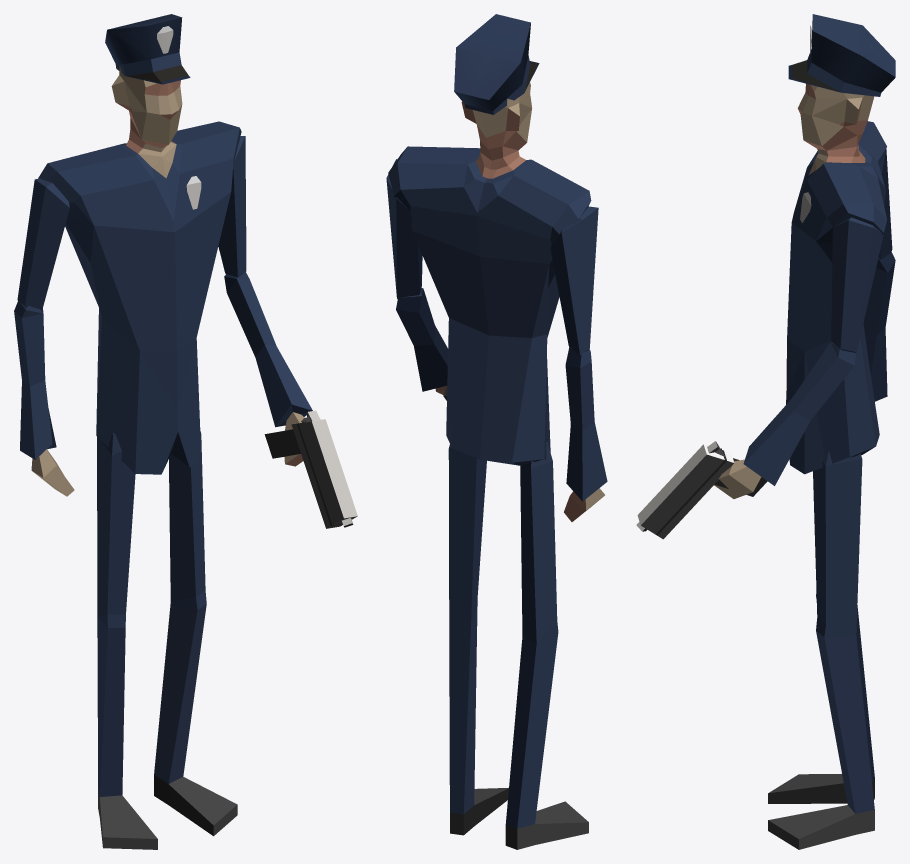
Rendered from character_police.FBX.
3 views of the same model, side by side, from view 1: azimuth 30°, elevation 25°; view 2: azimuth 150°, elevation 25°; view 3: azimuth 270°, elevation 25° (orthographic).
Visible parts, largest first — view 1: torso, leg_down_left, head, leg_down_right, leg_up_right, arm_down_right, leg_up_left, arm_down_left, Box02, arm_up_right, arm_up_left; view 2: torso, head, leg_down_right, leg_down_left, leg_up_right, leg_up_left, arm_down_right, arm_up_right, arm_down_left, arm_up_left; view 3: torso, head, leg_down_left, leg_up_left, arm_down_left, arm_up_left, Box02, leg_down_right, arm_down_right, arm_up_right.
Part boxes in pixels (x1,y1,x2,y2): torso: (38,121,241,474); leg_down_left: (154,602,237,836); head: (105,14,190,152); leg_down_right: (97,617,157,849); leg_up_right: (97,433,135,627); arm_down_right: (14,300,74,496); leg_up_left: (169,431,206,609); arm_down_left: (224,272,312,466); Box02: (264,410,357,528); arm_up_right: (17,178,69,309); arm_up_left: (218,136,246,277); torso: (388,146,591,465); head: (454,14,539,169); leg_down_right: (505,632,588,849); leg_down_left: (449,609,508,835); leg_up_right: (520,442,558,644); leg_up_left: (448,444,486,623); arm_down_right: (564,348,607,521); arm_up_right: (550,206,598,357); arm_down_left: (396,288,448,394); arm_up_left: (386,159,422,298); torso: (786,121,886,474); head: (788,14,895,156); leg_down_left: (768,631,874,849); leg_up_left: (813,450,862,636); arm_down_left: (714,342,855,498); arm_up_left: (831,217,883,352); Box02: (636,441,767,539); leg_down_right: (768,596,874,803); arm_down_right: (863,252,895,401); arm_up_right: (878,149,892,259).
Bounding box in the file's own units: 58.1 × 198 × 58.66.
1 material, 1 textured.
